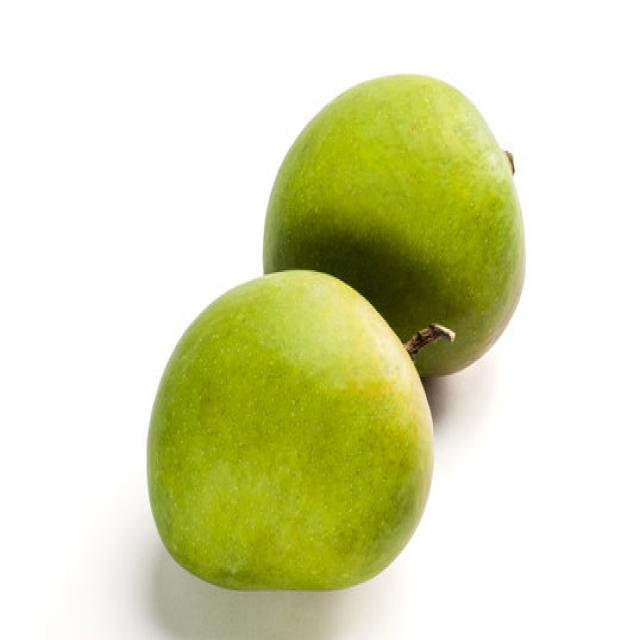raw-image: (125, 260, 443, 611), (247, 60, 535, 393)
